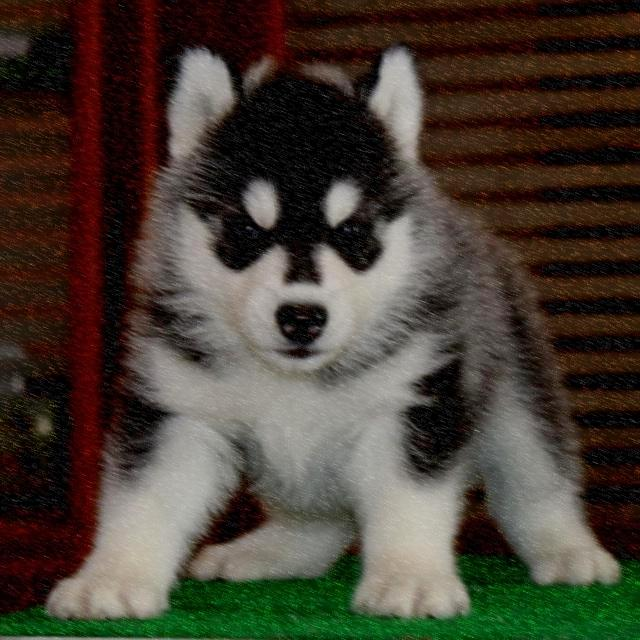dog: (52, 23, 550, 629)
